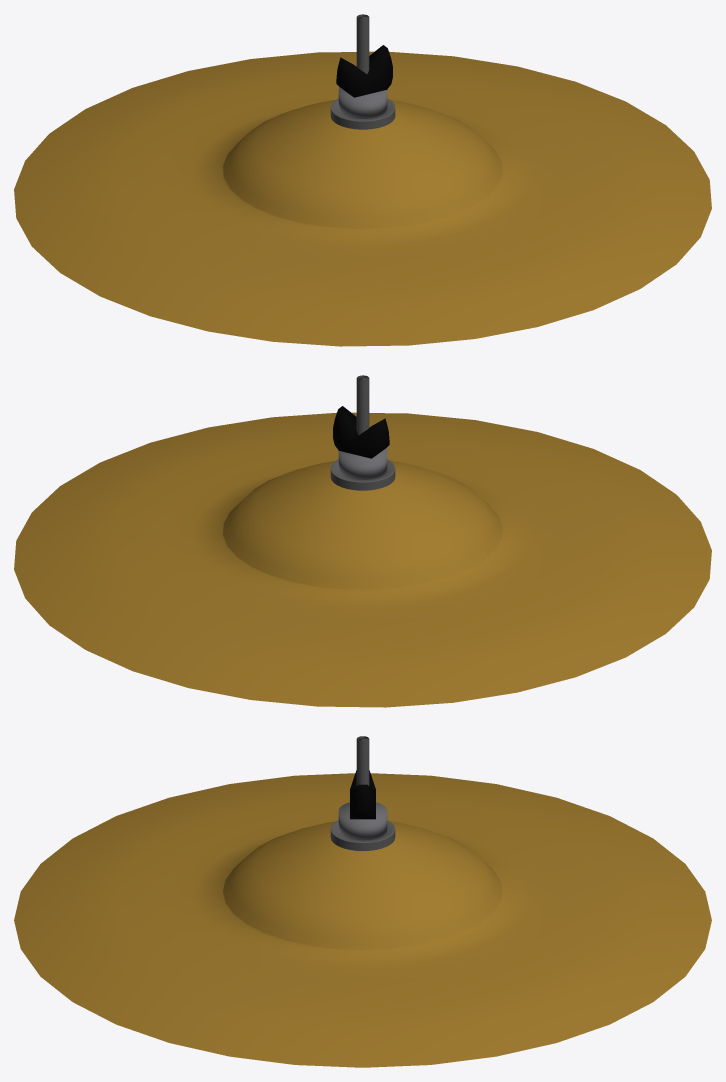
Rendered from dico2.fbx.
3 renders of one model, top to bottom at view 1: azimuth 30°, elevation 25°; view 2: azimuth 150°, elevation 25°; view 3: azimuth 270°, elevation 25°, orthographic.
Visible parts, largest first — view 1: disco, pariposa, toniquete, torniquete, palo; view 2: disco, pariposa, toniquete, torniquete, palo; view 3: disco, toniquete, pariposa, torniquete, palo.
Boxes of the visible parts, <box> form: disco: <box>14,51,711,346</box>; pariposa: <box>336,45,392,97</box>; toniquete: <box>338,87,387,118</box>; torniquete: <box>330,98,395,129</box>; palo: <box>356,14,369,73</box>; disco: <box>14,412,711,707</box>; pariposa: <box>333,406,389,458</box>; toniquete: <box>338,448,387,479</box>; torniquete: <box>330,459,395,490</box>; palo: <box>356,375,369,434</box>; disco: <box>14,773,711,1067</box>; toniquete: <box>338,802,387,840</box>; pariposa: <box>350,770,375,819</box>; torniquete: <box>330,820,395,850</box>; palo: <box>356,736,369,785</box>.
Size of the model in its own units: 200 by 103 by 200.
